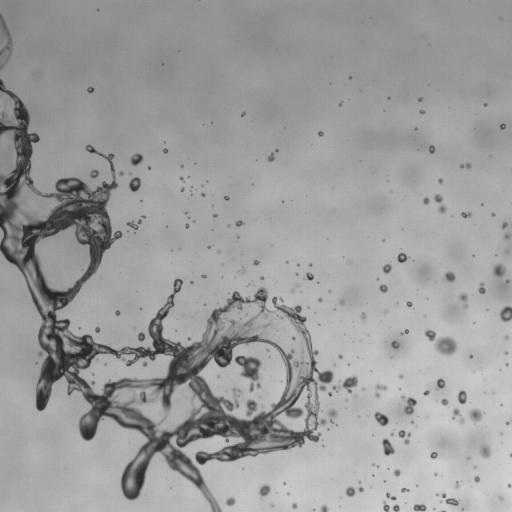droplet: (332, 375, 357, 393), (401, 395, 416, 414), (468, 408, 483, 422), (382, 438, 394, 455), (374, 412, 388, 426), (374, 383, 387, 397), (479, 444, 492, 458), (452, 408, 464, 423), (398, 430, 410, 444), (500, 306, 511, 321), (130, 153, 143, 165), (493, 263, 505, 276), (129, 177, 140, 191), (327, 408, 337, 423), (259, 484, 270, 497), (443, 271, 455, 282), (127, 220, 141, 229), (457, 390, 466, 404), (345, 486, 355, 497), (397, 253, 408, 262), (436, 378, 445, 389), (413, 504, 426, 511), (382, 264, 391, 273), (226, 497, 235, 506), (478, 282, 485, 293), (90, 169, 98, 178), (383, 500, 389, 511), (305, 272, 313, 280), (379, 284, 387, 292), (138, 332, 145, 341), (461, 212, 471, 218), (428, 145, 435, 153), (267, 153, 274, 161), (391, 341, 399, 348), (320, 504, 328, 511), (441, 398, 448, 405), (393, 469, 400, 476), (235, 220, 243, 226), (461, 163, 470, 168), (423, 197, 429, 204), (360, 312, 366, 319), (430, 452, 437, 458), (393, 504, 399, 511), (401, 329, 409, 334), (87, 87, 93, 93), (292, 502, 297, 509), (401, 488, 409, 492), (502, 222, 507, 228), (253, 260, 259, 265), (406, 301, 412, 306), (423, 390, 429, 395), (474, 476, 479, 482), (454, 482, 459, 488), (358, 486, 363, 492), (500, 124, 505, 129), (318, 131, 323, 136), (179, 176, 184, 181), (290, 288, 295, 293), (95, 327, 100, 332), (142, 361, 147, 366), (241, 267, 245, 273), (419, 110, 424, 114), (163, 148, 167, 153), (438, 178, 442, 183), (504, 234, 509, 238), (340, 299, 344, 304), (115, 310, 119, 315), (398, 374, 403, 378), (418, 97, 422, 101), (241, 112, 245, 116), (119, 171, 123, 175), (224, 196, 228, 200), (338, 355, 342, 359), (505, 421, 509, 425), (507, 483, 511, 487), (491, 213, 495, 216), (213, 214, 217, 217), (318, 298, 322, 301), (504, 336, 508, 339), (328, 392, 331, 396), (374, 464, 378, 467), (339, 102, 342, 105), (185, 224, 188, 227), (202, 274, 205, 277), (467, 456, 470, 459), (218, 249, 220, 253), (353, 395, 357, 397), (509, 453, 511, 457), (484, 103, 486, 106), (202, 193, 204, 196), (208, 245, 210, 248), (188, 337, 190, 340), (469, 355, 472, 357), (505, 363, 508, 365), (434, 473, 437, 475), (287, 492, 289, 495), (499, 497, 502, 499), (181, 188, 183, 190), (185, 213, 187, 215), (142, 216, 144, 218), (382, 239, 384, 241), (261, 277, 263, 279), (190, 281, 192, 283), (329, 290, 331, 292), (362, 387, 364, 389), (411, 421, 413, 423), (391, 433, 393, 435), (359, 481, 361, 483), (283, 482, 285, 484)
ligament: (0, 79, 333, 511), (425, 329, 457, 355), (0, 14, 12, 69), (434, 194, 446, 213), (439, 493, 458, 505), (459, 292, 468, 308), (386, 493, 396, 500), (440, 510, 445, 511), (510, 418, 511, 421)
